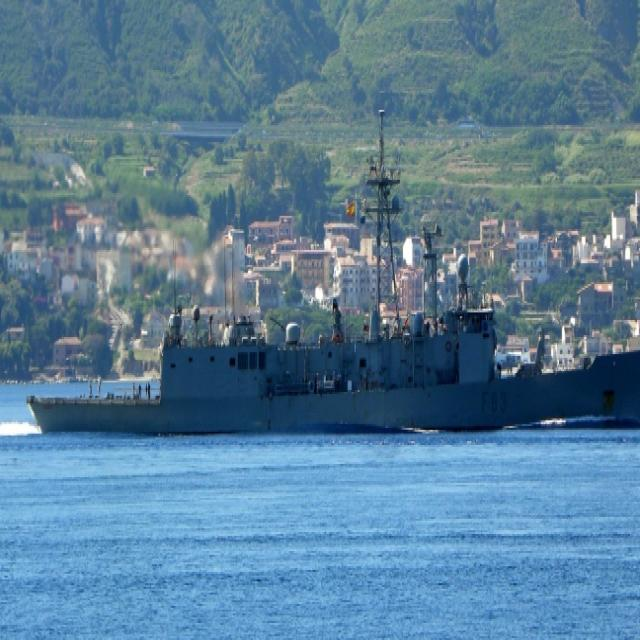Fragata: (22, 103, 640, 444)
